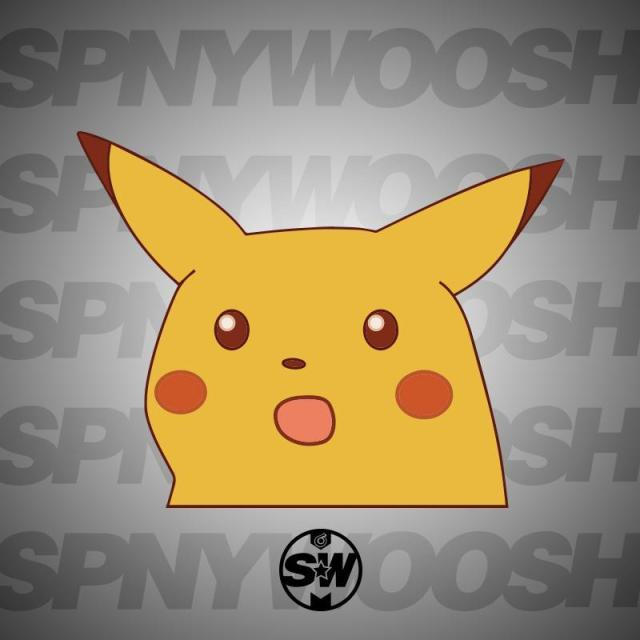pikachu: (79, 133, 565, 507)
